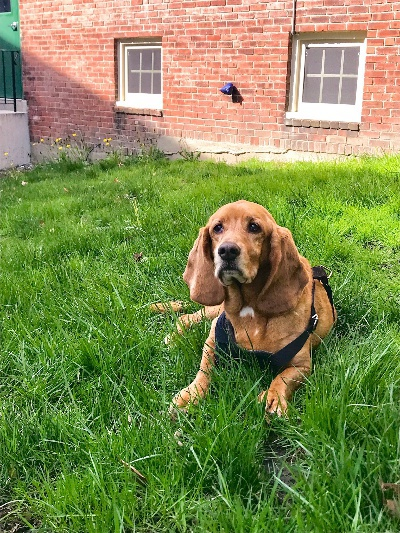daisy: (174, 187, 316, 329)
